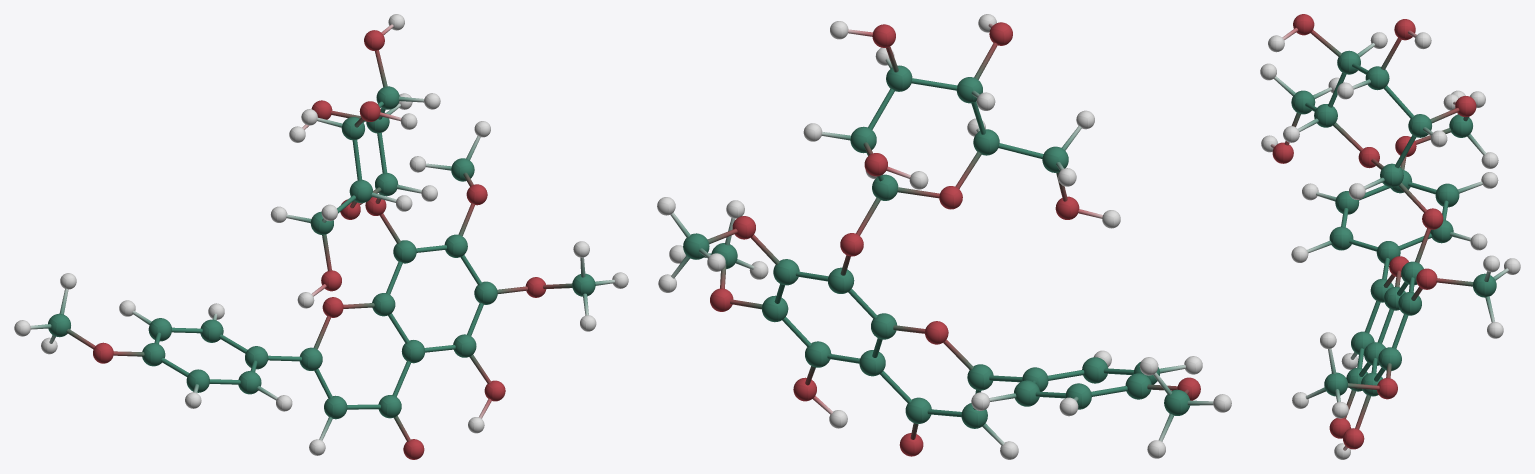
File: 5, 8-dihydroxy-6, 7, 4′-trimethoxyflavone.fbx
The picture shows the model from 3 angles, left to right: view 1: azimuth 30°, elevation 25°; view 2: azimuth 150°, elevation 25°; view 3: azimuth 270°, elevation 25°; orthographic projection. The views are drawn at different scales.
Visible parts, largest first — view 1: curMeshHyperballExportedMesh; view 2: curMeshHyperballExportedMesh; view 3: curMeshHyperballExportedMesh.
Part boxes in pixels (bbox=[...]): curMeshHyperballExportedMesh: bbox=[14, 14, 628, 459]; curMeshHyperballExportedMesh: bbox=[657, 14, 1231, 459]; curMeshHyperballExportedMesh: bbox=[1260, 14, 1520, 459].
Bounding box in the file's own units: 15.44 × 10.88 × 6.17.
